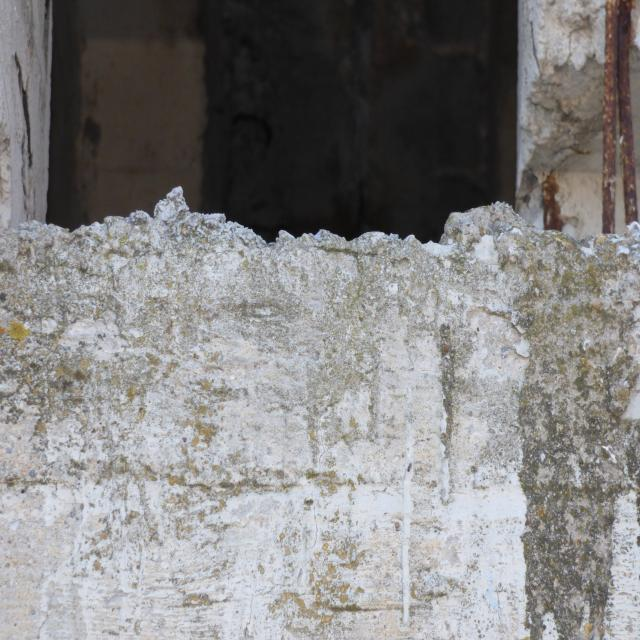corrosion: (599, 0, 640, 240), (537, 161, 572, 244)
